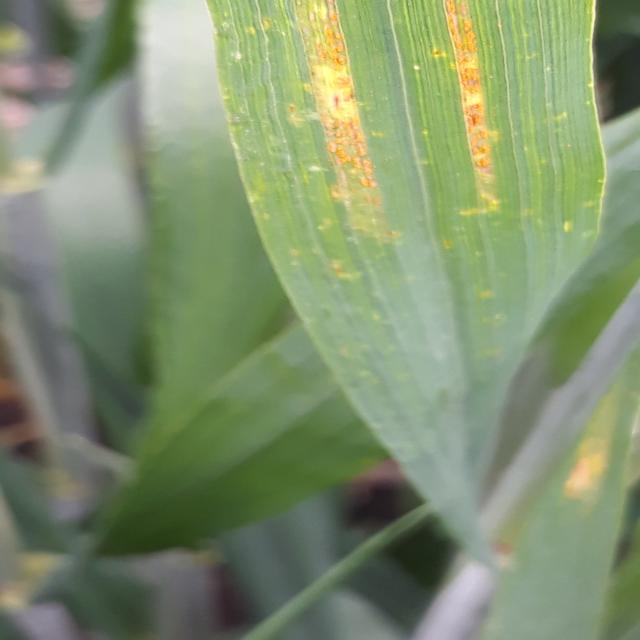yellow_rust: (198, 5, 640, 426), (474, 361, 640, 540)
